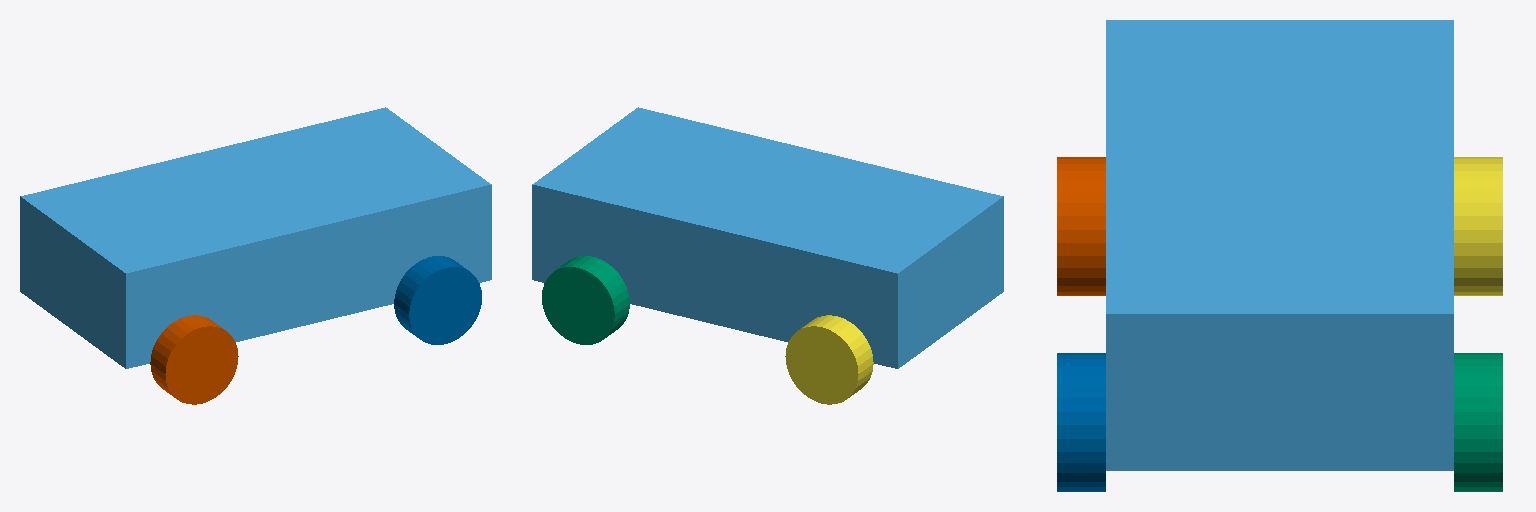
The robot description file, URDF, robot "ekalavya":
<?xml version="1.0" ?>
<!-- =================================================================================== -->
<!-- |    This document was autogenerated by xacro from robot.urdf.xacro               | -->
<!-- |    EDITING THIS FILE BY HAND IS NOT RECOMMENDED                                 | -->
<!-- =================================================================================== -->
<robot name="ekalavya">
  <!-- end of macros -->
  <link name="base_link"/>
  <joint name="base_to_chassis_joint" type="fixed">
    <parent link="base_link"/>
    <child link="chassis_link"/>
    <origin rpy="0.0 0.0 0.0" xyz="0.5 0.0 0.125"/>
  </joint>
  <link name="chassis_link">
    <visual>
      <origin rpy="0.0 0.0 0.0" xyz="0.0 0.0 0.0"/>
      <geometry>
        <box size="1 0.5 0.25"/>
      </geometry>
    </visual>
    <collision>
      <origin rpy="0.0 0.0 0.0" xyz="0.0 0.0 0.0"/>
      <geometry>
        <box size="1 0.5 0.25"/>
      </geometry>
    </collision>
    <inertial>
      <origin rpy="0 0 0" xyz="0.0 0 0"/>
      <mass value="1"/>
      <inertia ixx="0.026041666666666664" ixy="0.0" ixz="0.0" iyy="0.08854166666666666" iyz="0.0" izz="0.10416666666666666"/>
    </inertial>
  </link>
  <!-- left wheel1 -->
  <joint name="chassis_to_left_wheel1_joint" type="continuous">
    <parent link="chassis_link"/>
    <child link="left_wheel1_link"/>
    <axis xyz="0 0 1"/>
    <origin rpy="-1.5707963267948966 0 0" xyz="0.3333333333333333 0.2857142857142857 -0.125"/>
  </joint>
  <link name="left_wheel1_link">
    <visual>
      <origin rpy="0.0 0.0 0.0" xyz="0.0 0.0 0.0"/>
      <geometry>
        <cylinder length="0.07142857142857142" radius="0.1"/>
      </geometry>
    </visual>
    <collision>
      <origin rpy="0.0 0.0 0.0" xyz="0.0 0.0 0.0"/>
      <geometry>
        <cylinder length="0.07142857142857142" radius="0.1"/>
      </geometry>
    </collision>
    <inertial>
      <origin rpy="0.0 0.0 0.0" xyz="0.0 0.0 0.0"/>
      <mass value="0.25"/>
      <inertia ixx="0.0007312925170068027" ixy="0.0" ixz="0.0" iyy="0.0007312925170068027" iyz="0.0" izz="0.0012500000000000002"/>
    </inertial>
  </link>
  <!-- left wheel2 -->
  <joint name="chassis_to_left_wheel2_joint" type="continuous">
    <parent link="chassis_link"/>
    <child link="left_wheel2_link"/>
    <axis xyz="0 0 1"/>
    <origin rpy="-1.5707963267948966 0 0" xyz="-0.3333333333333333 0.2857142857142857 -0.125"/>
  </joint>
  <link name="left_wheel2_link">
    <visual>
      <origin rpy="0.0 0.0 0.0" xyz="0.0 0.0 0.0"/>
      <geometry>
        <cylinder length="0.07142857142857142" radius="0.1"/>
      </geometry>
    </visual>
    <collision>
      <origin rpy="0.0 0.0 0.0" xyz="0.0 0.0 0.0"/>
      <geometry>
        <cylinder length="0.07142857142857142" radius="0.1"/>
      </geometry>
    </collision>
    <inertial>
      <origin rpy="0.0 0.0 0.0" xyz="0.0 0.0 0.0"/>
      <mass value="0.25"/>
      <inertia ixx="0.0007312925170068027" ixy="0.0" ixz="0.0" iyy="0.0007312925170068027" iyz="0.0" izz="0.0012500000000000002"/>
    </inertial>
  </link>
  <!-- right wheel1 -->
  <joint name="chassis_to_right_wheel1_joint" type="continuous">
    <parent link="chassis_link"/>
    <child link="right_wheel1_link"/>
    <axis xyz="0 0 -1"/>
    <origin rpy="1.5707963267948966 0 0" xyz="0.3333333333333333 -0.2857142857142857 -0.125"/>
  </joint>
  <link name="right_wheel1_link">
    <visual>
      <origin rpy="0.0 0.0 0.0" xyz="0.0 0.0 0.0"/>
      <geometry>
        <cylinder length="0.07142857142857142" radius="0.1"/>
      </geometry>
    </visual>
    <collision>
      <origin rpy="0.0 0.0 0.0" xyz="0.0 0.0 0.0"/>
      <geometry>
        <cylinder length="0.07142857142857142" radius="0.1"/>
      </geometry>
    </collision>
    <inertial>
      <origin rpy="0.0 0.0 0.0" xyz="0.0 0.0 0.0"/>
      <mass value="0.25"/>
      <inertia ixx="0.0007312925170068027" ixy="0.0" ixz="0.0" iyy="0.0007312925170068027" iyz="0.0" izz="0.0012500000000000002"/>
    </inertial>
  </link>
  <!-- left wheel2 -->
  <joint name="chassis_to_right_wheel2_joint" type="continuous">
    <parent link="chassis_link"/>
    <child link="right_wheel2_link"/>
    <axis xyz="0 0 -1"/>
    <origin rpy="1.5707963267948966 0 0" xyz="-0.3333333333333333 -0.2857142857142857 -0.125"/>
  </joint>
  <link name="right_wheel2_link">
    <visual>
      <origin rpy="0.0 0.0 0.0" xyz="0.0 0.0 0.0"/>
      <geometry>
        <cylinder length="0.07142857142857142" radius="0.1"/>
      </geometry>
    </visual>
    <collision>
      <origin rpy="0.0 0.0 0.0" xyz="0.0 0.0 0.0"/>
      <geometry>
        <cylinder length="0.07142857142857142" radius="0.1"/>
      </geometry>
    </collision>
    <inertial>
      <origin rpy="0.0 0.0 0.0" xyz="0.0 0.0 0.0"/>
      <mass value="0.25"/>
      <inertia ixx="0.0007312925170068027" ixy="0.0" ixz="0.0" iyy="0.0007312925170068027" iyz="0.0" izz="0.0012500000000000002"/>
    </inertial>
  </link>
</robot>

--- Render facts (derived) ---
The picture shows the robot from 3 angles, left to right: view 1: azimuth 30°, elevation 25°; view 2: azimuth 150°, elevation 25°; view 3: azimuth 270°, elevation 25°; orthographic projection.
Model ekalavya with 6 links and 5 joints (4 continuous, 1 fixed), rooted at base_link, posed all joints at 0.
Visible links, largest first — view 1: chassis_link, right_wheel1_link, right_wheel2_link; view 2: chassis_link, left_wheel1_link, left_wheel2_link; view 3: chassis_link, left_wheel1_link, left_wheel2_link, right_wheel1_link, right_wheel2_link.
Boxes of the visible links, x1,y1,x2,y2 form: chassis_link: [20, 107, 491, 368]; right_wheel1_link: [394, 256, 481, 344]; right_wheel2_link: [150, 315, 238, 404]; chassis_link: [532, 107, 1003, 368]; left_wheel1_link: [542, 256, 629, 344]; left_wheel2_link: [785, 315, 873, 404]; chassis_link: [1106, 20, 1453, 470]; left_wheel1_link: [1454, 353, 1502, 491]; left_wheel2_link: [1454, 157, 1502, 295]; right_wheel1_link: [1057, 353, 1105, 491]; right_wheel2_link: [1057, 157, 1105, 295].
Size in the robot's own frame: 1 by 0.6429 by 0.35 metres.
Geometry: primitives only (box / cylinder / sphere), no mesh files.
